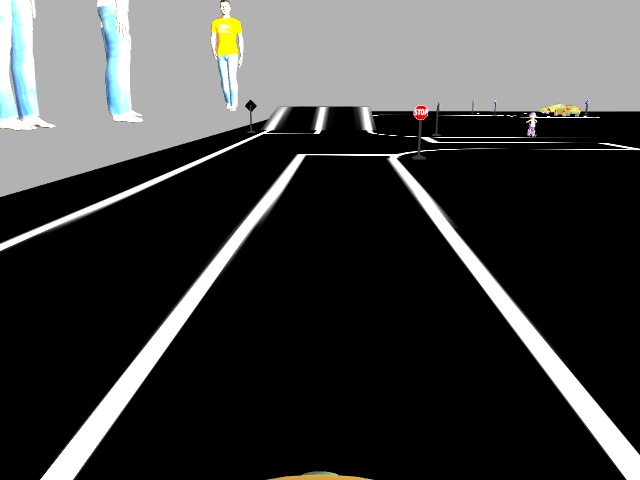Stop: (409, 101, 430, 122)
